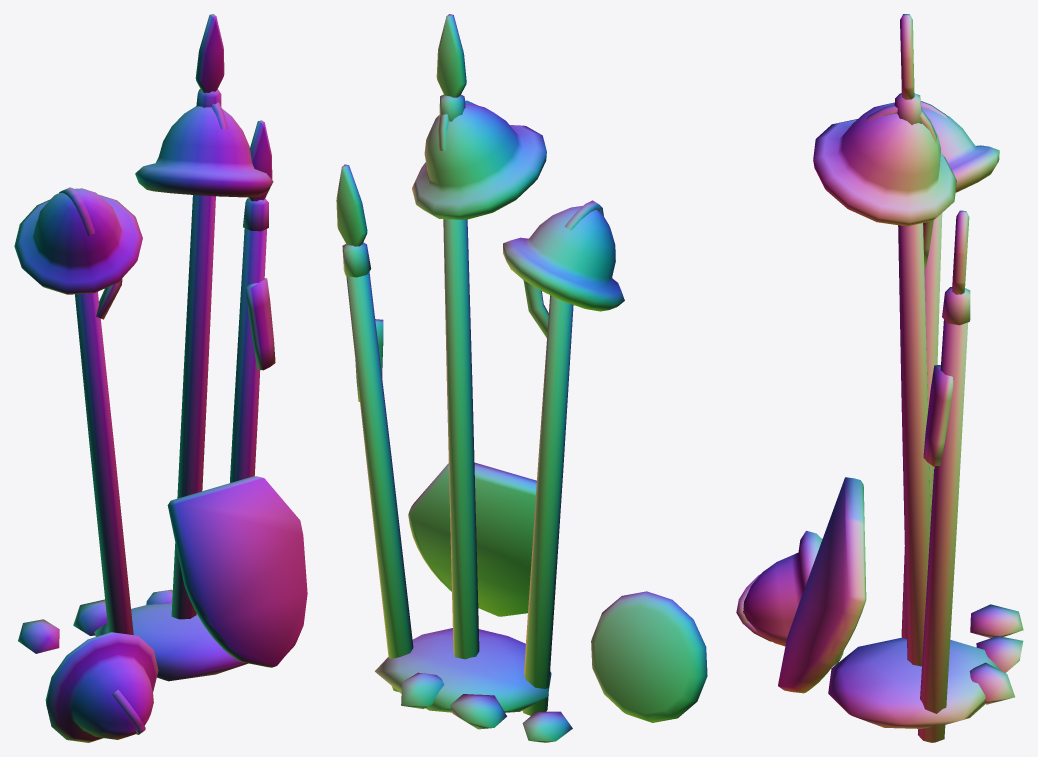
File: SM_Prop_March_HelmetStake_B.fbx
3 views of the same model, side by side, from view 1: azimuth 30°, elevation 25°; view 2: azimuth 150°, elevation 25°; view 3: azimuth 270°, elevation 25° (orthographic). The views are drawn at different scales.
Parts seen in each view (by area): view 1: SM_Prop_March_HelmetStake_B; view 2: SM_Prop_March_HelmetStake_B; view 3: SM_Prop_March_HelmetStake_B.
Part boxes in pixels (x1,y1,x2,y2): SM_Prop_March_HelmetStake_B: [14, 14, 307, 742]; SM_Prop_March_HelmetStake_B: [336, 14, 707, 742]; SM_Prop_March_HelmetStake_B: [736, 14, 1023, 742].
Bounding box in the file's own units: 1.02 × 2.24 × 0.8008.
